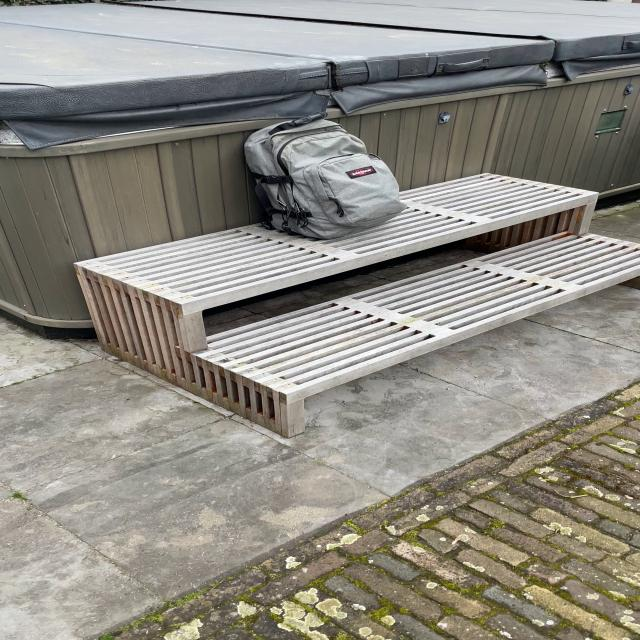backpack: (236, 111, 409, 242)
